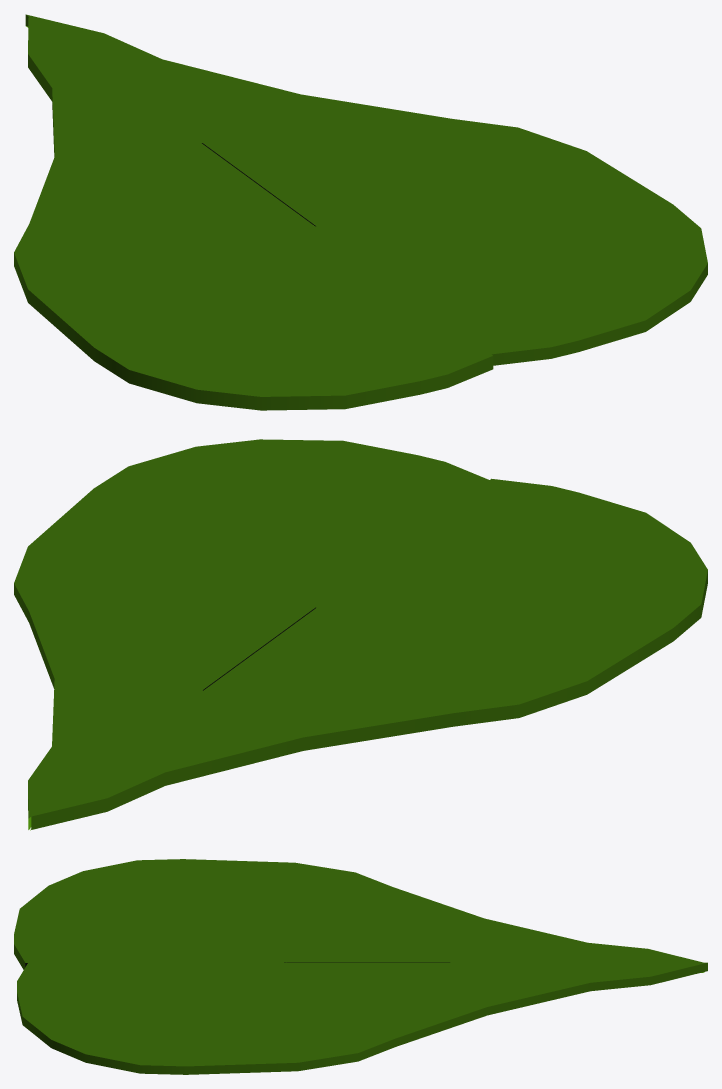
The model's file is leaf1.dae.
3 renders of one model, top to bottom at view 1: azimuth 30°, elevation 25°; view 2: azimuth 150°, elevation 25°; view 3: azimuth 270°, elevation 25°, orthographic. The views are drawn at different scales.
Parts seen in each view (by area): view 1: SketchUp (×2); view 2: SketchUp (×2); view 3: SketchUp (×2).
Boxes of the visible parts, x1,y1,x2,y2 form: SketchUp (×2): (14, 14, 707, 410); SketchUp (×2): (14, 439, 707, 829); SketchUp (×2): (14, 859, 707, 1074).
Bounding box in the file's own units: 380 × 537 × 8.5.
